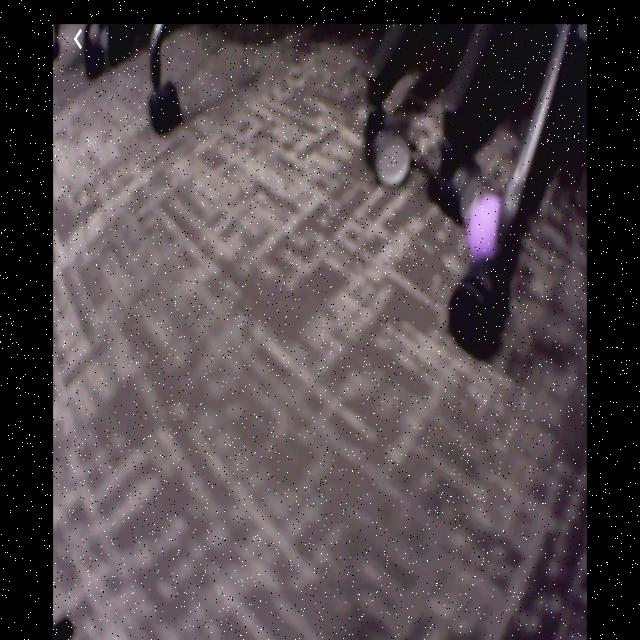ball: (469, 194, 503, 260)
